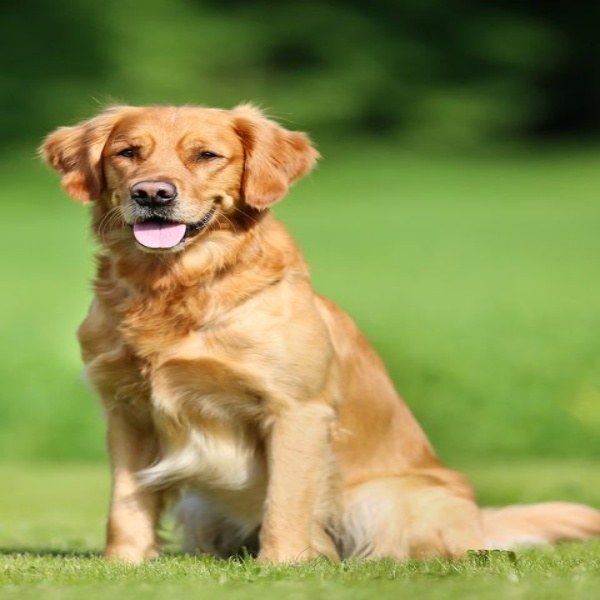dog: (26, 97, 600, 573)
